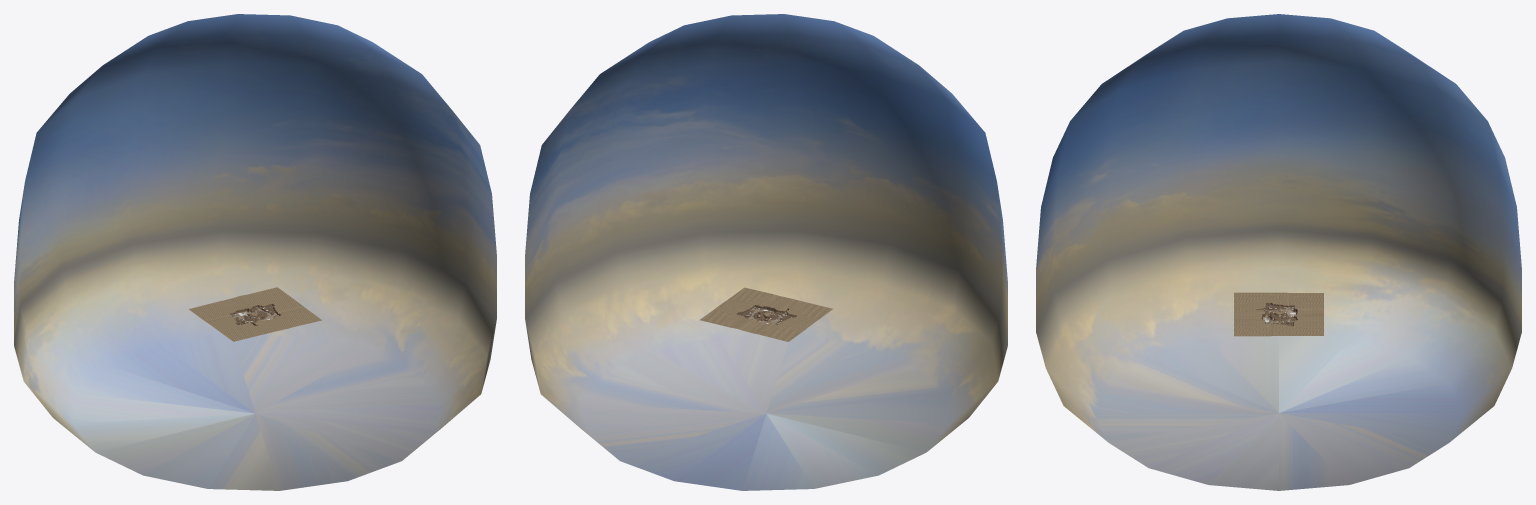
The model's file is Map_100102_scene.gltf.
The picture shows the model from 3 angles, left to right: view 1: azimuth 30°, elevation 25°; view 2: azimuth 150°, elevation 25°; view 3: azimuth 270°, elevation 25°; orthographic projection.
Parts seen in each view (by area): view 1: Map_100102_scene; view 2: Map_100102_scene; view 3: Map_100102_scene.
Part boxes in pixels (x1=…): Map_100102_scene: x1=14, y1=14, x2=496, y2=490; Map_100102_scene: x1=525, y1=14, x2=1007, y2=490; Map_100102_scene: x1=1036, y1=14, x2=1521, y2=490.
Size of the model in its own units: 5684 by 4727 by 5684.
Materials: 183 (119 with a texture image).
